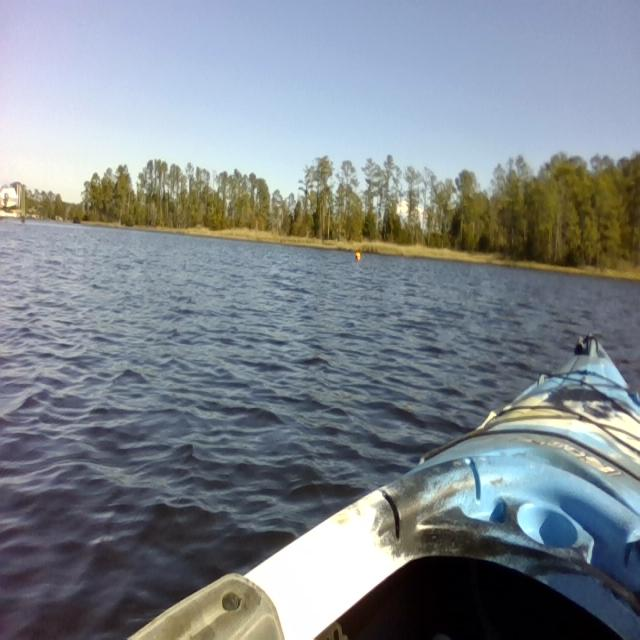Buoy: (353, 250, 364, 269)
